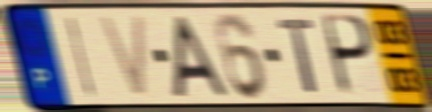6: (214, 10, 271, 103)
A: (171, 13, 233, 100)
I: (64, 14, 98, 101)
P: (322, 12, 377, 100)
T: (274, 16, 321, 96)
V: (95, 13, 150, 101)
